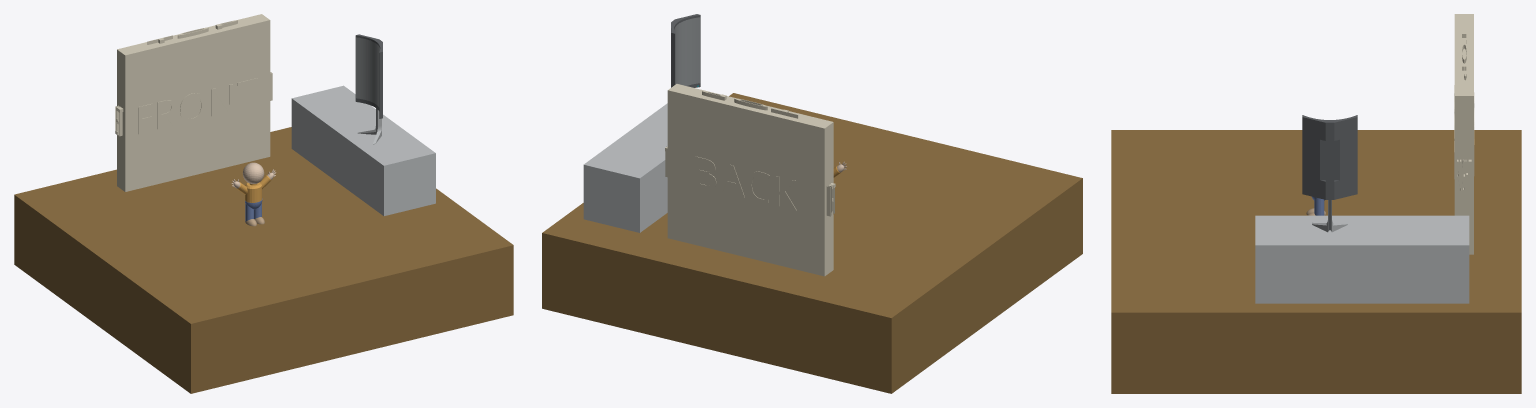
The model's file is asset.glb.
The picture shows the model from 3 angles, left to right: view 1: azimuth 30°, elevation 25°; view 2: azimuth 150°, elevation 25°; view 3: azimuth 270°, elevation 25°; orthographic projection. The views are drawn at different scales.
Visible parts, largest first — view 1: Mesh_Mesh_head_geo.001_lambert2SG.001; view 2: Mesh_Mesh_head_geo.001_lambert2SG.001; view 3: Mesh_Mesh_head_geo.001_lambert2SG.001.
Part boxes in pixels (<box>): Mesh_Mesh_head_geo.001_lambert2SG.001: <box>14,14,513,393</box>; Mesh_Mesh_head_geo.001_lambert2SG.001: <box>542,14,1082,393</box>; Mesh_Mesh_head_geo.001_lambert2SG.001: <box>1111,14,1521,393</box>.
Bounding box in the file's own units: 193 × 123 × 183.
